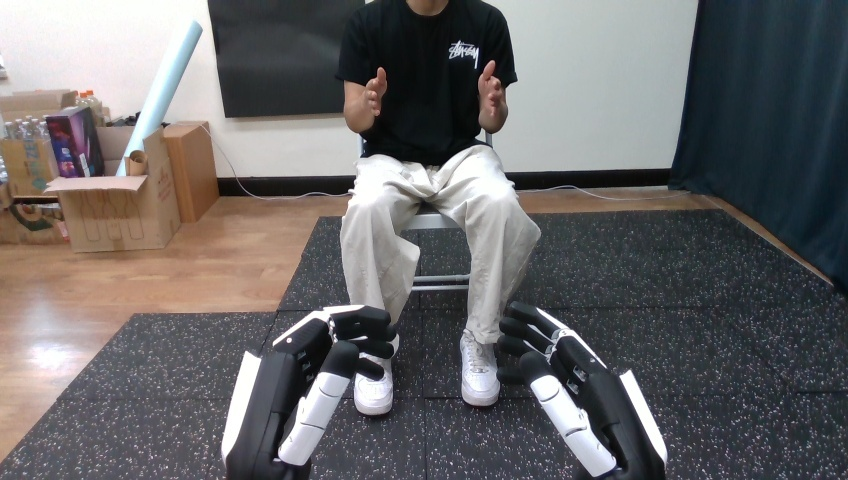left robot hand: (221, 305, 395, 479), (497, 301, 666, 478)
